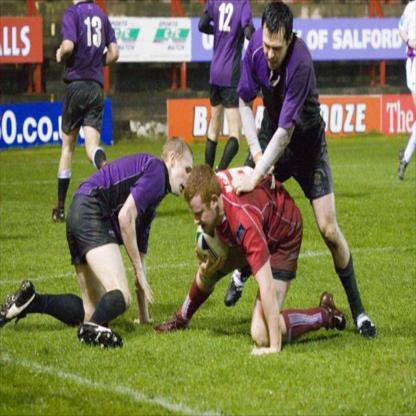Ball: (195, 226, 229, 265)
